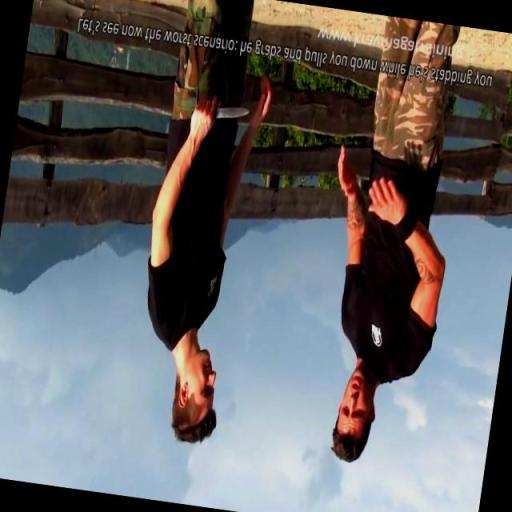knife: (186, 92, 252, 137)
